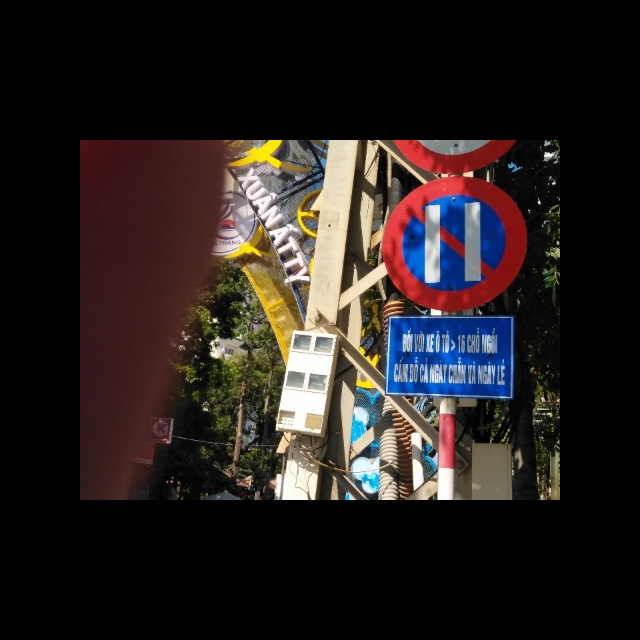Cấm đỗ xe ngày chẵn: (381, 172, 527, 313)
